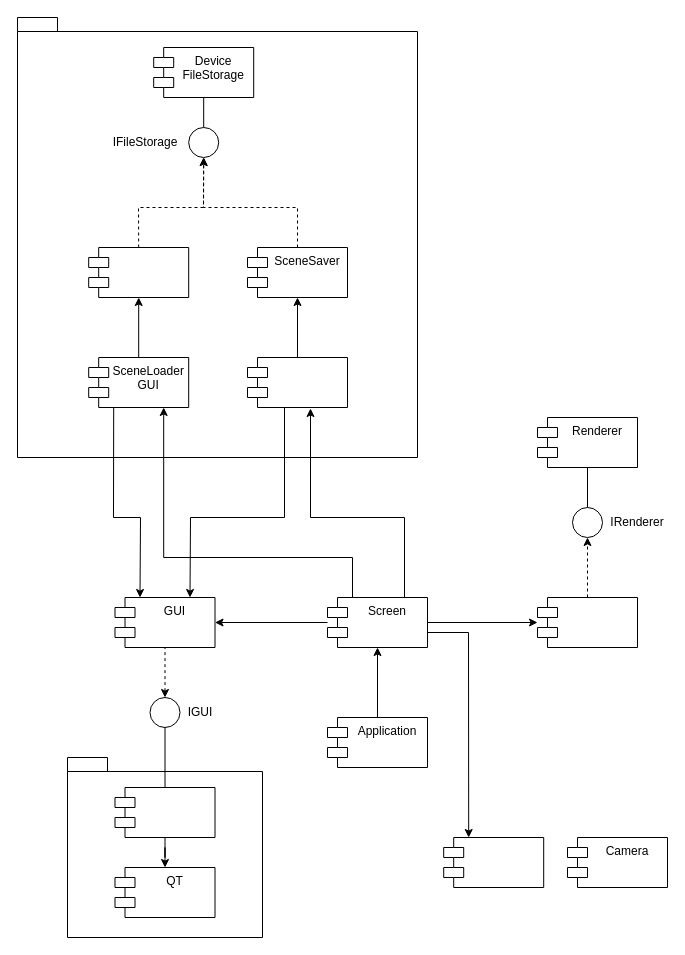
Some shapes in this 685 by 955 pixel diagram are drawn without their labels. Each missing label, with the centre of its shape:
"Camera GUI" belongs at (x=493, y=862).
"QT Adapter" belongs at (x=164, y=812).
"Scene" belongs at (x=587, y=622).
"SceneLoader" belongs at (x=138, y=272).
"SceneSaver GUI" belongs at (x=297, y=382).
